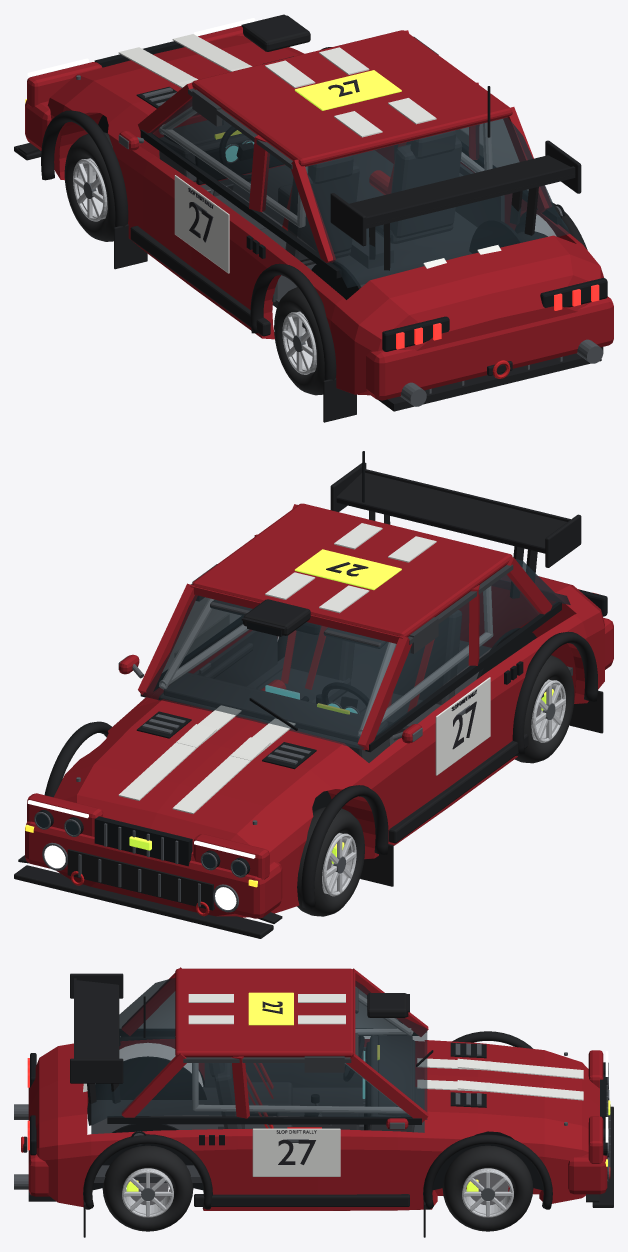
File: slop_drift_rally_car.glb
The picture shows the model from 3 angles, top to bottom: view 1: azimuth 30°, elevation 25°; view 2: azimuth 150°, elevation 25°; view 3: azimuth 270°, elevation 25°; orthographic projection. The views are drawn at different scales.
Visible parts, largest first — view 1: Body, Glass, Roof, Bumper_R, Floor, WingPlane, SeatBack1, DoorPlate-1, ArchLip-1_1.275, WingGurney, SeatBack-1, ArchLip-1_-1.275 (+40 smaller); view 2: Body, Glass, Roof, WingPlane, Bumper_F, DashTop, Intake, Splitter, DoorPlate-1, WheelF-1_Tyre, ArchLip-1_1.275, ArchLip-1_-1.275 (+35 smaller); view 3: Body, Glass, Roof, Floor, WheelF1_Tyre, WheelR1_Tyre, DoorPlate1, WingPlane, SideSkirt1, WheelR-1_Well, Belt_1, ArchLip1_1.275 (+44 smaller).
Part boxes in pixels (bbox=[...]): Body: bbox=[47, 35, 603, 395]; Glass: bbox=[151, 99, 570, 287]; Roof: bbox=[192, 30, 512, 166]; Bumper_R: bbox=[366, 296, 613, 400]; Floor: bbox=[200, 150, 477, 329]; WingPlane: bbox=[349, 155, 575, 225]; SeatBack1: bbox=[390, 137, 461, 237]; DoorPlate-1: bbox=[174, 175, 229, 273]; ArchLip-1_1.275: bbox=[41, 110, 128, 227]; WingGurney: bbox=[366, 166, 575, 228]; SeatBack-1: bbox=[285, 162, 359, 261]; ArchLip-1_-1.275: bbox=[250, 263, 336, 380]; Body: bbox=[54, 575, 604, 917]; Glass: bbox=[142, 559, 570, 749]; Roof: bbox=[192, 503, 512, 637]; WingPlane: bbox=[336, 472, 566, 553]; Bumper_F: bbox=[25, 821, 282, 918]; DashTop: bbox=[164, 674, 362, 742]; Intake: bbox=[67, 849, 214, 910]; Splitter: bbox=[14, 865, 273, 938]; DoorPlate-1: bbox=[435, 677, 490, 775]; WheelF-1_Tyre: bbox=[297, 807, 364, 916]; ArchLip-1_1.275: bbox=[301, 785, 388, 909]; ArchLip-1_-1.275: bbox=[512, 631, 597, 755]; Body: bbox=[30, 1039, 599, 1210]; Glass: bbox=[91, 978, 427, 1125]; Roof: bbox=[175, 968, 353, 1057]; Floor: bbox=[91, 1087, 424, 1182]; WheelF1_Tyre: bbox=[442, 1145, 533, 1231]; WheelR1_Tyre: bbox=[102, 1145, 193, 1231]; DoorPlate1: bbox=[252, 1128, 340, 1176]; WingPlane: bbox=[76, 980, 119, 1058]; SideSkirt1: bbox=[194, 1194, 409, 1206]; WheelR-1_Well: bbox=[87, 1056, 206, 1125]; Belt_1: bbox=[107, 1116, 421, 1124]; ArchLip1_1.275: bbox=[423, 1134, 552, 1209].
Bounding box in the file's own units: 2.07 × 1.77 × 4.5.
